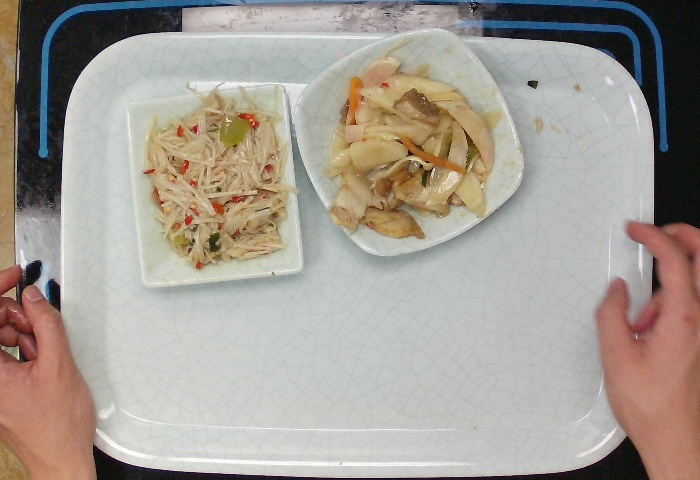WCQzf-Da_Si_Fang_Die: (293, 25, 526, 258)
WCQzf-Ru_Ci_Si_Fang_Die: (123, 81, 306, 290)
